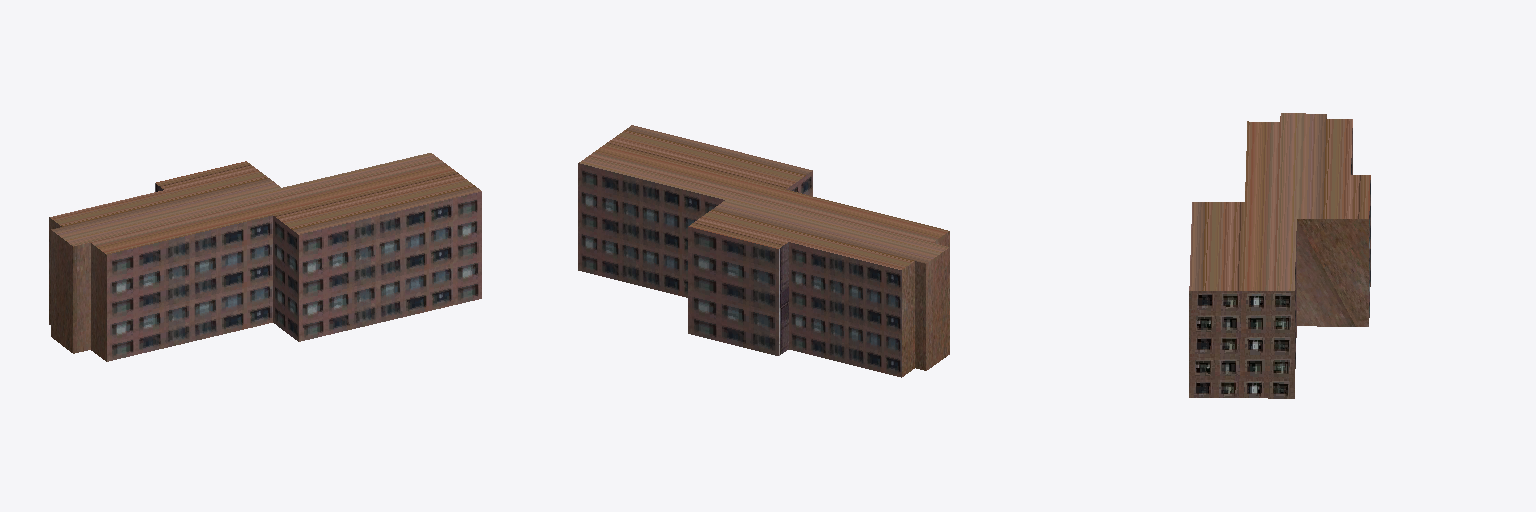
3 views of the same model, side by side, from view 1: azimuth 30°, elevation 25°; view 2: azimuth 150°, elevation 25°; view 3: azimuth 270°, elevation 25° (orthographic).
Visible parts, largest first — view 1: VMtl1687, VMtl1689; view 2: VMtl1687, VMtl1689, VMtl1686; view 3: VMtl1689, VMtl1688.
Part boxes in pixels (left/top/right/bottom): VMtl1687: left=107, top=192, right=481, bottom=361; VMtl1689: left=49, top=153, right=481, bottom=361; VMtl1687: left=578, top=163, right=901, bottom=377; VMtl1689: left=579, top=125, right=949, bottom=376; VMtl1686: left=779, top=242, right=788, bottom=355; VMtl1689: left=1189, top=113, right=1370, bottom=326; VMtl1688: left=1189, top=291, right=1294, bottom=398.
Bounding box in the file's own units: 77.22 × 21.7 × 33.24.
Materials: 4 (4 with a texture image).